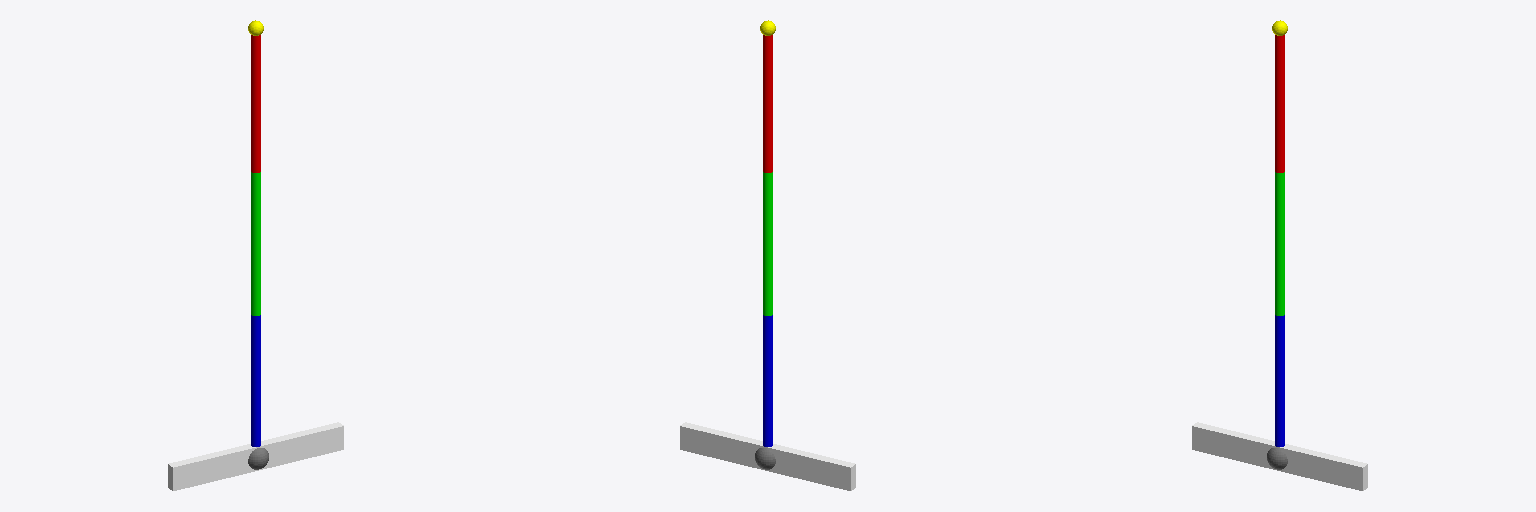
robot.urdf — second_robot:
<?xml version="1.0" ?>
<!-- =================================================================================== -->
<!-- |    This document was autogenerated by xacro from second_robot/description/robot.urdf.xacro | -->
<!-- |    EDITING THIS FILE BY HAND IS NOT RECOMMENDED                                 | -->
<!-- =================================================================================== -->
<robot name="second_robot">
  <material name="white">
    <color rgba="1 1 1 1"/>
  </material>
  <material name="blue">
    <color rgba="0 0 1 1"/>
  </material>
  <material name="green">
    <color rgba="0 1 0 1"/>
  </material>
  <material name="yellow">
    <color rgba="1 1 0 1"/>
  </material>
  <material name="cyan">
    <color rgba="0 1 1 1"/>
  </material>
  <material name="pink">
    <color rgba="1 0.5 0.5 1"/>
  </material>
  <material name="gray">
    <color rgba="0.5 0.5 0.5 1"/>
  </material>
  <material name="purple">
    <color rgba="0.5 0 0.5 1"/>
  </material>
  <material name="black">
    <color rgba="0 0 0 1"/>
  </material>
  <material name="silver">
    <color rgba="0.9137254901960784 0.9137254901960784 0.8470588235294118 1.0"/>
  </material>
  <material name="orange">
    <color rgba="1.0 0.4235294117647059 0.0392156862745098 1.0"/>
  </material>
  <material name="brown">
    <color rgba="0.8705882352941177 0.8117647058823529 0.7647058823529411 1.0"/>
  </material>
  <material name="red">
    <color rgba="0.8 0.0 0.0 1.0"/>
  </material>
  <!-- Base Link -->
  <link name="base_link">
    <visual name="base_link_visual">
      <origin rpy="0 0 0" xyz="0 0 0"/>
      <geometry>
        <box size="0.3762 0.02 0.05"/>
      </geometry>
      <material name="white"/>
    </visual>
    <inertial>
      <origin xyz="0 0 0"/>
      <mass value="2.2"/>
      <inertia ixx="0.001" ixy="0" ixz="0" iyy="0.001" iyz="0" izz="0.001"/>
    </inertial>
    <collision name="base_collision">
      <origin rpy="0 0 0" xyz="0 0 0"/>
      <geometry>
        <box size="0.3762 0.02 0.05"/>
      </geometry>
    </collision>
  </link>
  <!-- Base to Shoulder Joint -->
  <joint name="base_to_shoulder_joint" type="fixed">
    <parent link="base_link"/>
    <child link="shoulder_link"/>
    <origin rpy="0 0 0" xyz="0 0 0"/>
  </joint>
  <!-- Shoulder Link -->
  <link name="shoulder_link">
    <visual>
      <geometry>
        <sphere radius="0.025"/>
      </geometry>
      <origin rpy="0 0 0" xyz="0 0 0"/>
      <material name="gray"/>
    </visual>
    <collision>
      <geometry>
        <sphere radius="0.025"/>
      </geometry>
      <origin rpy="0 0 0" xyz="0 0 0"/>
    </collision>
    <inertial>
      <origin xyz="0 0 0"/>
      <mass value="0.2"/>
      <inertia ixx="0.00005" ixy="0" ixz="0" iyy="0.00005" iyz="0" izz="0.00005"/>
    </inertial>
  </link>
  <!-- Shoulder Joint -->
  <joint name="shoulder_joint" type="revolute">
    <parent link="shoulder_link"/>
    <child link="upper_arm_link"/>
    <origin rpy="0 0 0" xyz="0 0 0"/>
    <axis xyz="0 0 1"/>
    <limit effort="1.0" lower="-3.14" upper="3.14" velocity="2.0"/>
  </joint>
  <!-- Upper Arm Link -->
  <link name="upper_arm_link">
    <visual>
      <geometry>
        <cylinder length="0.3" radius="0.01"/>
      </geometry>
      <origin rpy="0 0 0" xyz="0 0 0.15"/>
      <material name="blue">
        <color rgba="0 0 1 1"/>
      </material>
    </visual>
    <collision>
      <geometry>
        <cylinder length="0.3" radius="0.01"/>
      </geometry>
      <origin rpy="0 0 0" xyz="0 0 0.15"/>
    </collision>
    <inertial>
      <origin rpy="0 0 0" xyz="0 0 0.15"/>
      <mass value="0.15"/>
      <inertia ixx="0.00012" ixy="0" ixz="0" iyy="0.00012" iyz="0" izz="0.00002"/>
    </inertial>
  </link>
  <!-- Elbow Joint -->
  <joint name="elbow_joint" type="revolute">
    <parent link="upper_arm_link"/>
    <child link="forearm_link"/>
    <origin rpy="0 0 0" xyz="0 0 0.3"/>
    <axis xyz="0 0 1"/>
    <limit effort="1.0" lower="-3.14" upper="3.14" velocity="2.0"/>
  </joint>
  <!-- Forearm Link -->
  <link name="forearm_link">
    <visual>
      <geometry>
        <cylinder length="0.3" radius="0.01"/>
      </geometry>
      <origin rpy="0 0 0" xyz="0 0 0.15"/>
      <material name="green">
        <color rgba="0 1 0 1"/>
      </material>
    </visual>
    <collision>
      <geometry>
        <cylinder length="0.3" radius="0.01"/>
      </geometry>
      <origin rpy="0 0 0" xyz="0 0 0.15"/>
    </collision>
    <inertial>
      <origin rpy="0 0 0" xyz="0 0 0.15"/>
      <mass value="0.12"/>
      <inertia ixx="0.00010" ixy="0" ixz="0" iyy="0.00010" iyz="0" izz="0.000015"/>
    </inertial>
  </link>
  <!-- Wrist Joint -->
  <joint name="wrist_joint" type="revolute">
    <parent link="forearm_link"/>
    <child link="wrist_link"/>
    <origin rpy="0 0 0" xyz="0 0 0.3"/>
    <axis xyz="0 0 1"/>
    <limit effort="1.0" lower="-3.14" upper="3.14" velocity="2.0"/>
  </joint>
  <!-- Wrist Link -->
  <link name="wrist_link">
    <visual>
      <geometry>
        <cylinder length="0.3" radius="0.01"/>
      </geometry>
      <origin rpy="0 0 0" xyz="0 0 0.15"/>
      <material name="red">
        <color rgba="1 0 0 1"/>
      </material>
    </visual>
    <collision>
      <geometry>
        <cylinder length="0.3" radius="0.01"/>
      </geometry>
      <origin rpy="0 0 0" xyz="0 0 0.15"/>
    </collision>
    <inertial>
      <origin rpy="0 0 0" xyz="0 0 0.15"/>
      <mass value="0.08"/>
      <inertia ixx="0.00007" ixy="0" ixz="0" iyy="0.00007" iyz="0" izz="0.00001"/>
    </inertial>
  </link>
  <!-- End Effector -->
  <link name="end_effector_link">
    <visual>
      <geometry>
        <sphere radius="0.015"/>
      </geometry>
      <origin rpy="0 0 0" xyz="0 0 0"/>
      <material name="yellow">
        <color rgba="1 1 0 1"/>
      </material>
    </visual>
    <collision>
      <geometry>
        <sphere radius="0.015"/>
      </geometry>
      <origin rpy="0 0 0" xyz="0 0 0"/>
    </collision>
    <inertial>
      <origin xyz="0 0 0"/>
      <mass value="0.02"/>
      <inertia ixx="0.00001" ixy="0" ixz="0" iyy="0.00001" iyz="0" izz="0.00001"/>
    </inertial>
  </link>
  <!-- End Effector Joint -->
  <joint name="ee_fixed_joint" type="fixed">
    <parent link="wrist_link"/>
    <child link="end_effector_link"/>
    <origin rpy="0 0 0" xyz="0 0 0.3"/>
  </joint>
  <gazebo>
    
  </gazebo>
  <ros2_control name="SecondRobot" type="system">
    <hardware>
      <plugin>gz_ros2_control/GazeboSimSystem</plugin>
      <!-- <plugin>mock_components/GenericSystem</plugin> -->
    </hardware>
    <joint name="shoulder_joint">
      <command_interface name="effort"/>
      <state_interface name="position"/>
      <state_interface name="velocity"/>
    </joint>
    <joint name="elbow_joint">
      <command_interface name="effort"/>
      <state_interface name="position"/>
      <state_interface name="velocity"/>
    </joint>
    <joint name="wrist_joint">
      <command_interface name="effort"/>
      <state_interface name="position"/>
      <state_interface name="velocity"/>
    </joint>
  </ros2_control>
  <gazebo>
    <plugin filename="gz_ros2_control-system" name="gz_ros2_control::GazeboSimROS2ControlPlugin">
      <parameters>/home/phieu/ros2-learning/src/install/second_robot/share/second_robot/config/ros_control.yaml</parameters>
      <robot_param_node>robot_state_publisher</robot_param_node>
    </plugin>
  </gazebo>
</robot>

--- What the picture shows (computed from the rendered views, not written in the file) ---
Views: 3 orthographic renders of the robot side by side, from view 1: azimuth 30°, elevation 25°; view 2: azimuth 150°, elevation 25°; view 3: azimuth 330°, elevation 25°.
Robot: second_robot — 6 links, 5 joints (3 revolute, 2 fixed); root link base_link; default pose: all joints at 0.
Visible links, largest first — view 1: base_link, forearm_link, wrist_link, upper_arm_link; view 2: base_link, forearm_link, wrist_link, upper_arm_link; view 3: base_link, forearm_link, wrist_link, upper_arm_link.
Boxes of the visible links, <box> form: base_link: <box>168,422,343,490</box>; forearm_link: <box>251,172,260,315</box>; wrist_link: <box>251,35,260,172</box>; upper_arm_link: <box>251,315,260,446</box>; base_link: <box>680,422,855,490</box>; forearm_link: <box>763,172,772,315</box>; wrist_link: <box>763,35,772,172</box>; upper_arm_link: <box>763,315,772,446</box>; base_link: <box>1192,422,1367,490</box>; forearm_link: <box>1275,172,1284,315</box>; wrist_link: <box>1275,35,1284,172</box>; upper_arm_link: <box>1275,315,1284,446</box>.
Size in the robot's own frame: 0.3762 by 0.05 by 0.94 metres.
Geometry: primitives only (box / cylinder / sphere), no mesh files.
